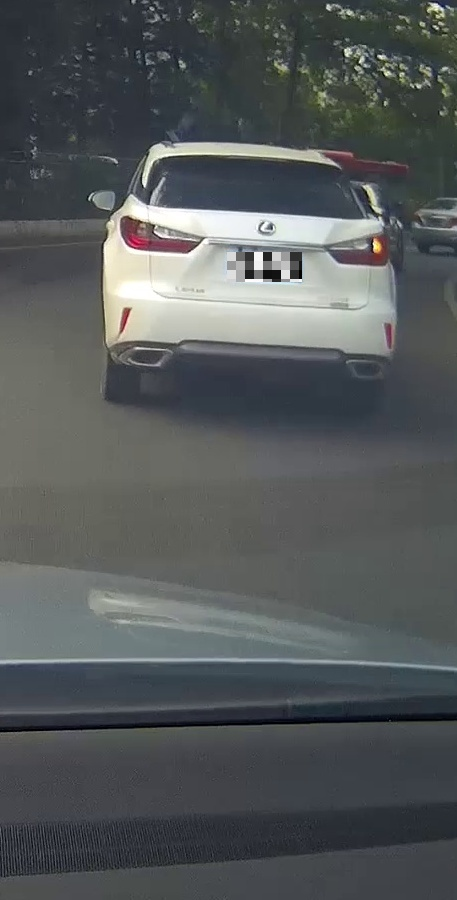L_light: (119, 215, 205, 254), (413, 213, 424, 227)
R_light: (324, 230, 390, 267), (444, 217, 456, 228)
T_light: (229, 155, 286, 163), (442, 199, 452, 202)
day-no: (410, 198, 457, 255)
day-right: (102, 142, 397, 406)
plate_1: (227, 252, 302, 282)
